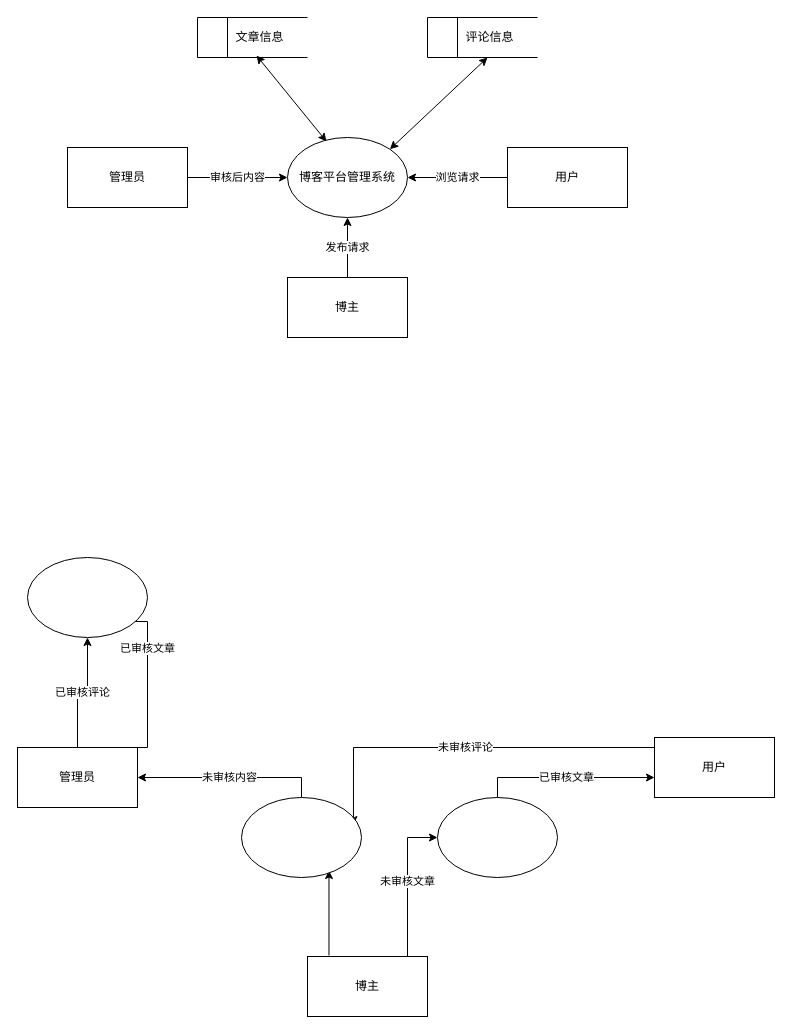
Image size: 792x1034. Some labels were removed from this diagram. The centre of each missing label's shape, as x and y in pixels:
"平台管理" goes at pixel 87 597.
"文章管理" goes at pixel 497 837.
"评论管理" goes at pixel 301 837.
